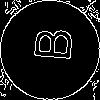B: (25, 25, 73, 63)
